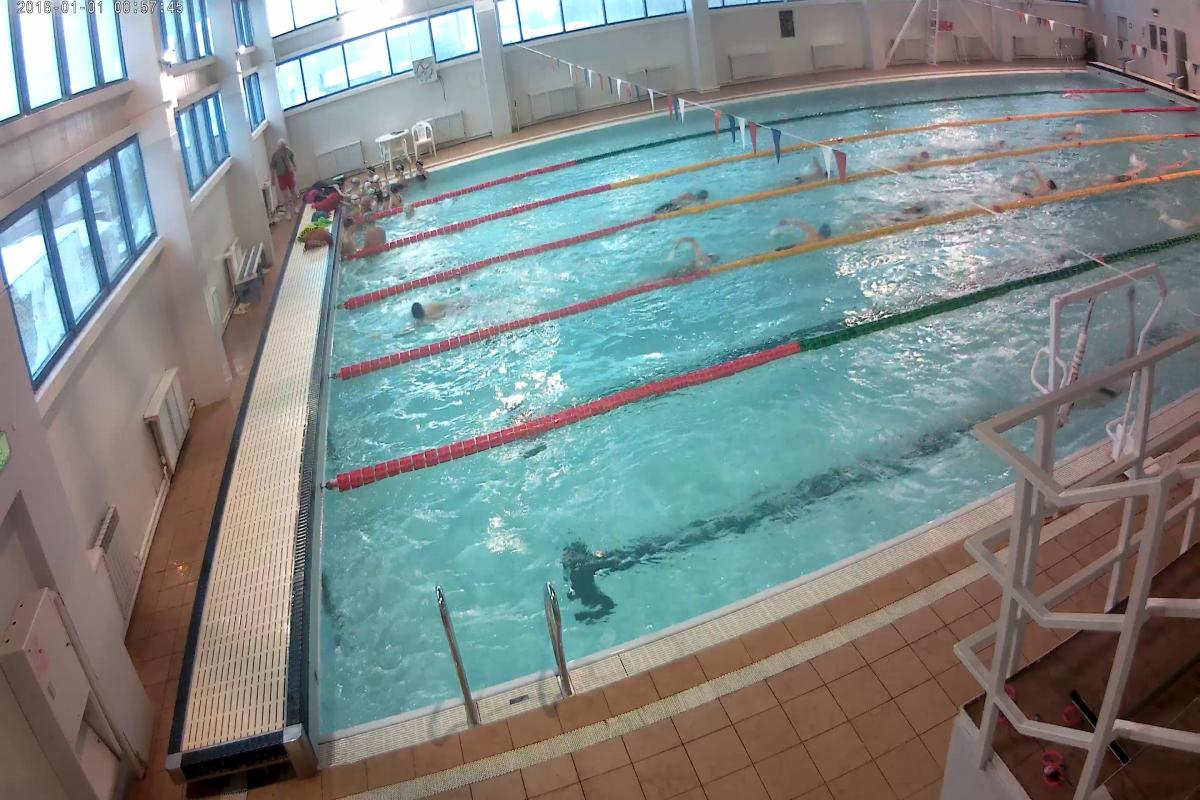swimmer: (392, 295, 474, 331), (777, 211, 834, 243), (672, 232, 716, 270), (1011, 168, 1059, 198), (1100, 155, 1145, 186), (659, 183, 710, 210), (784, 158, 834, 179), (1051, 120, 1091, 142), (907, 147, 932, 167)
